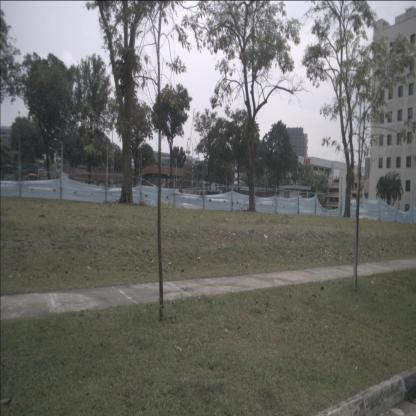vehicle-bus-rigid: (196, 190, 219, 206), (38, 168, 47, 191), (28, 173, 38, 191)
